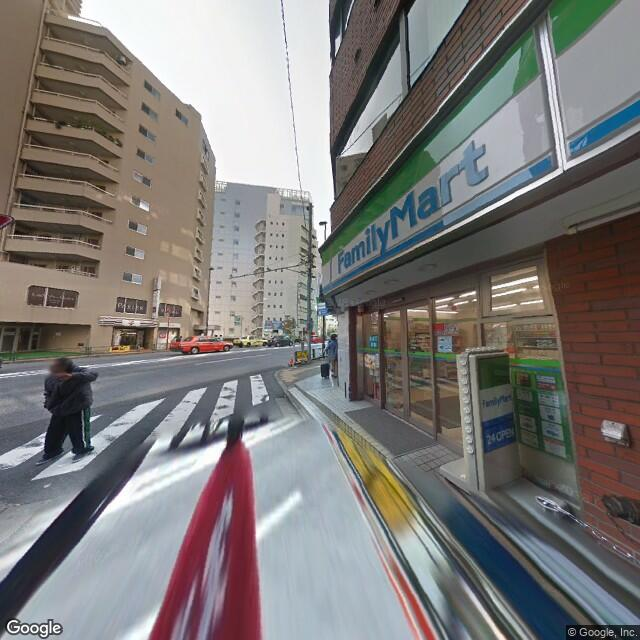family_mart: (318, 2, 637, 295), (334, 122, 494, 279), (469, 350, 514, 429)
